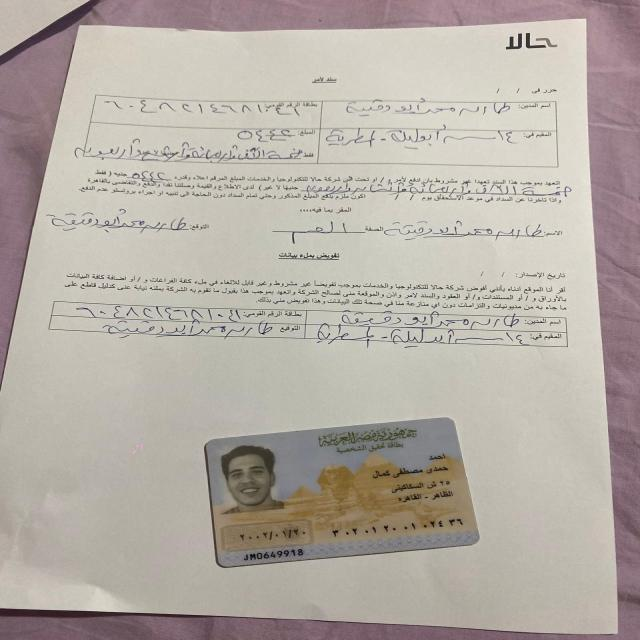ID-cards: (201, 412, 488, 573)
